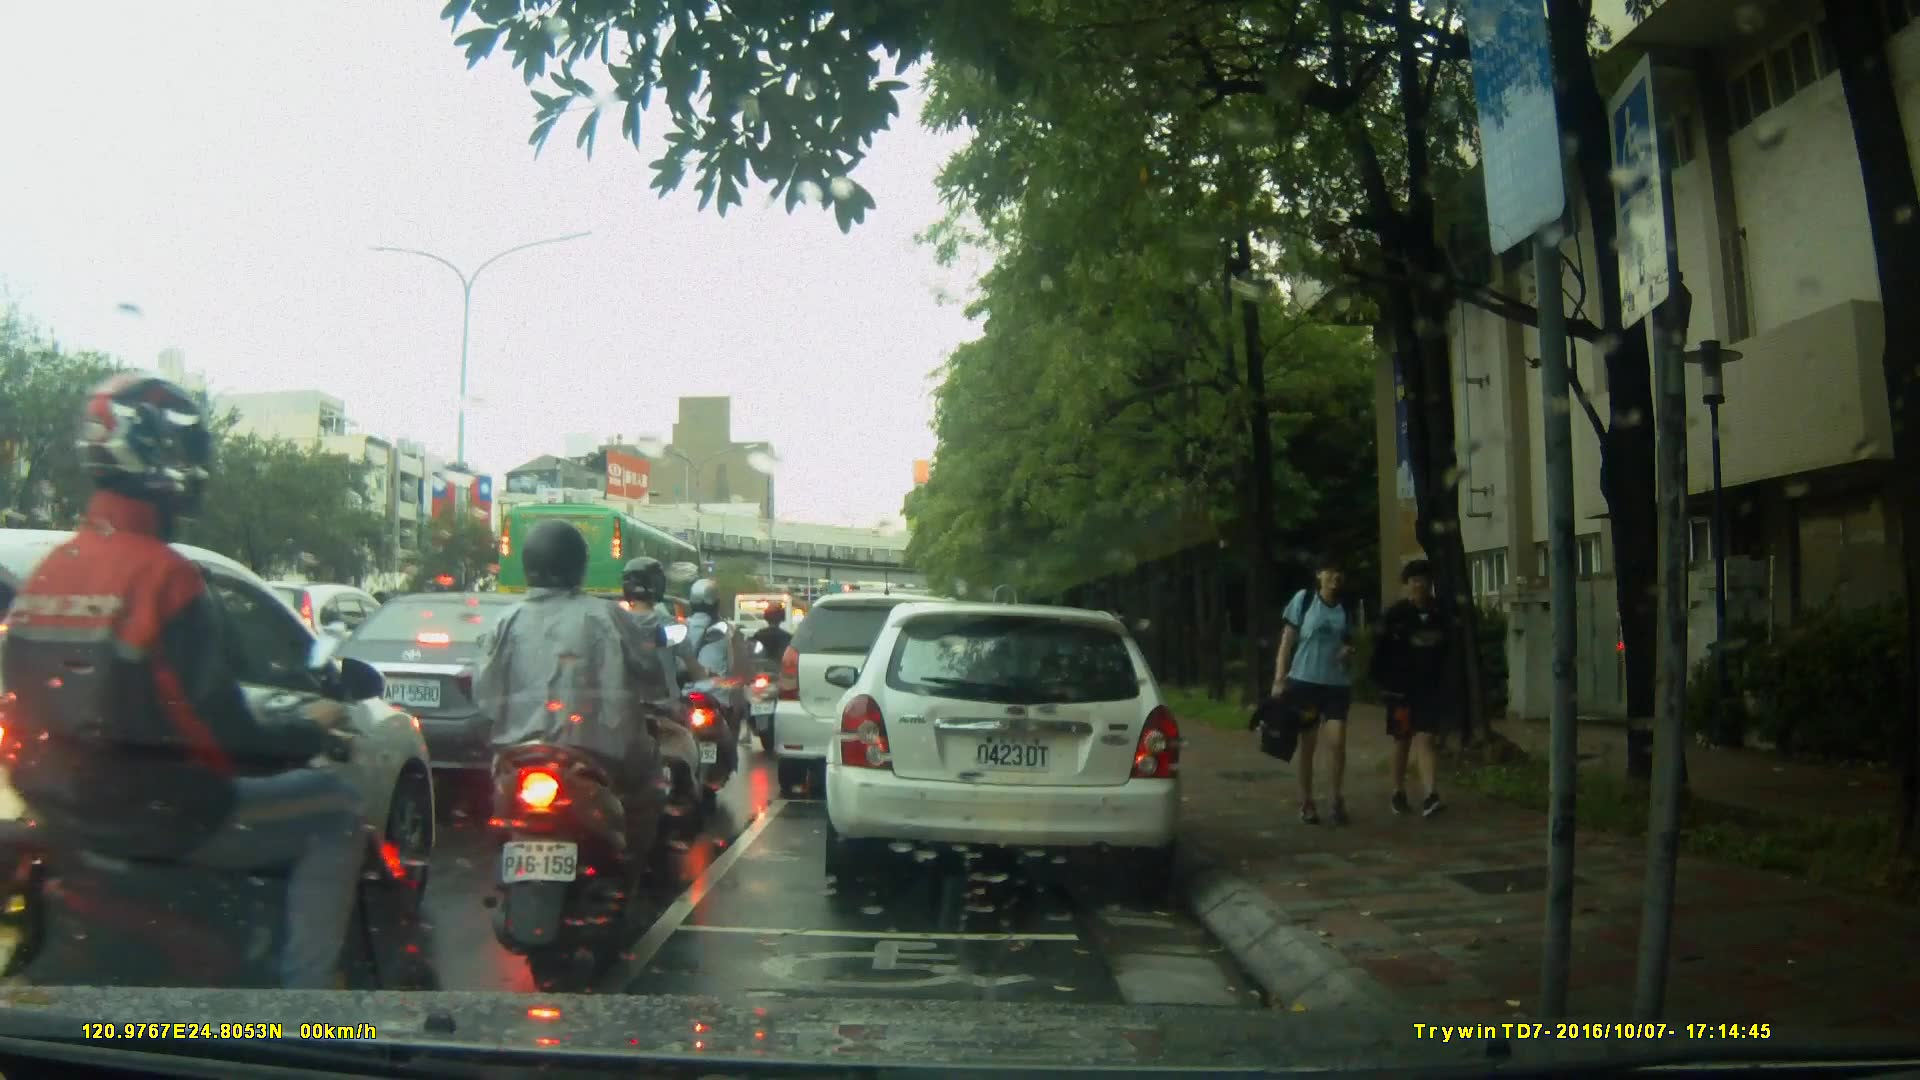pedestrian: (1254, 551, 1369, 832), (1384, 556, 1469, 822)
rider: (1, 373, 429, 1080), (473, 527, 689, 954), (593, 561, 713, 852), (669, 578, 749, 795), (747, 601, 804, 753)
vehicle: (1, 528, 451, 988), (831, 592, 1196, 897), (317, 590, 627, 792), (770, 591, 999, 803), (495, 500, 707, 636)
